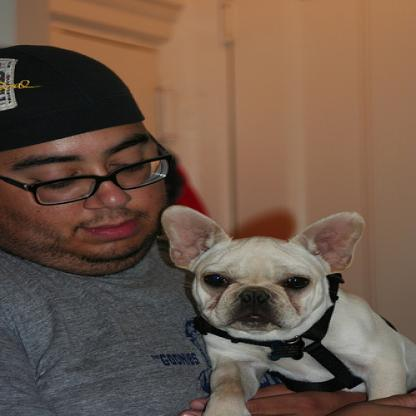French_bulldog: (151, 203, 412, 414)
